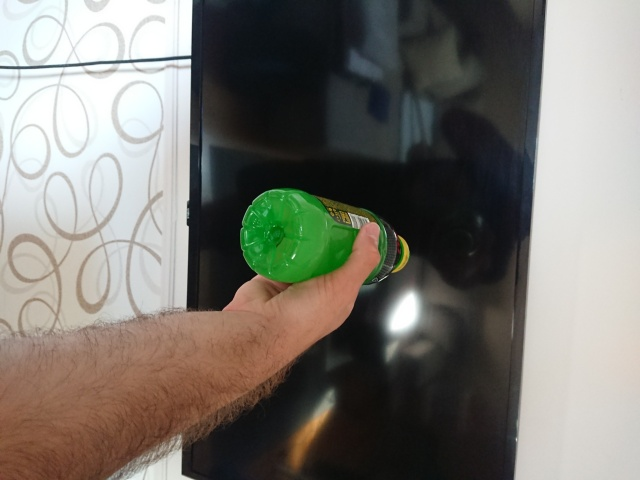Vindi Iso Sport Lemon-Grapefruit 500mL: (236, 185, 413, 289)
